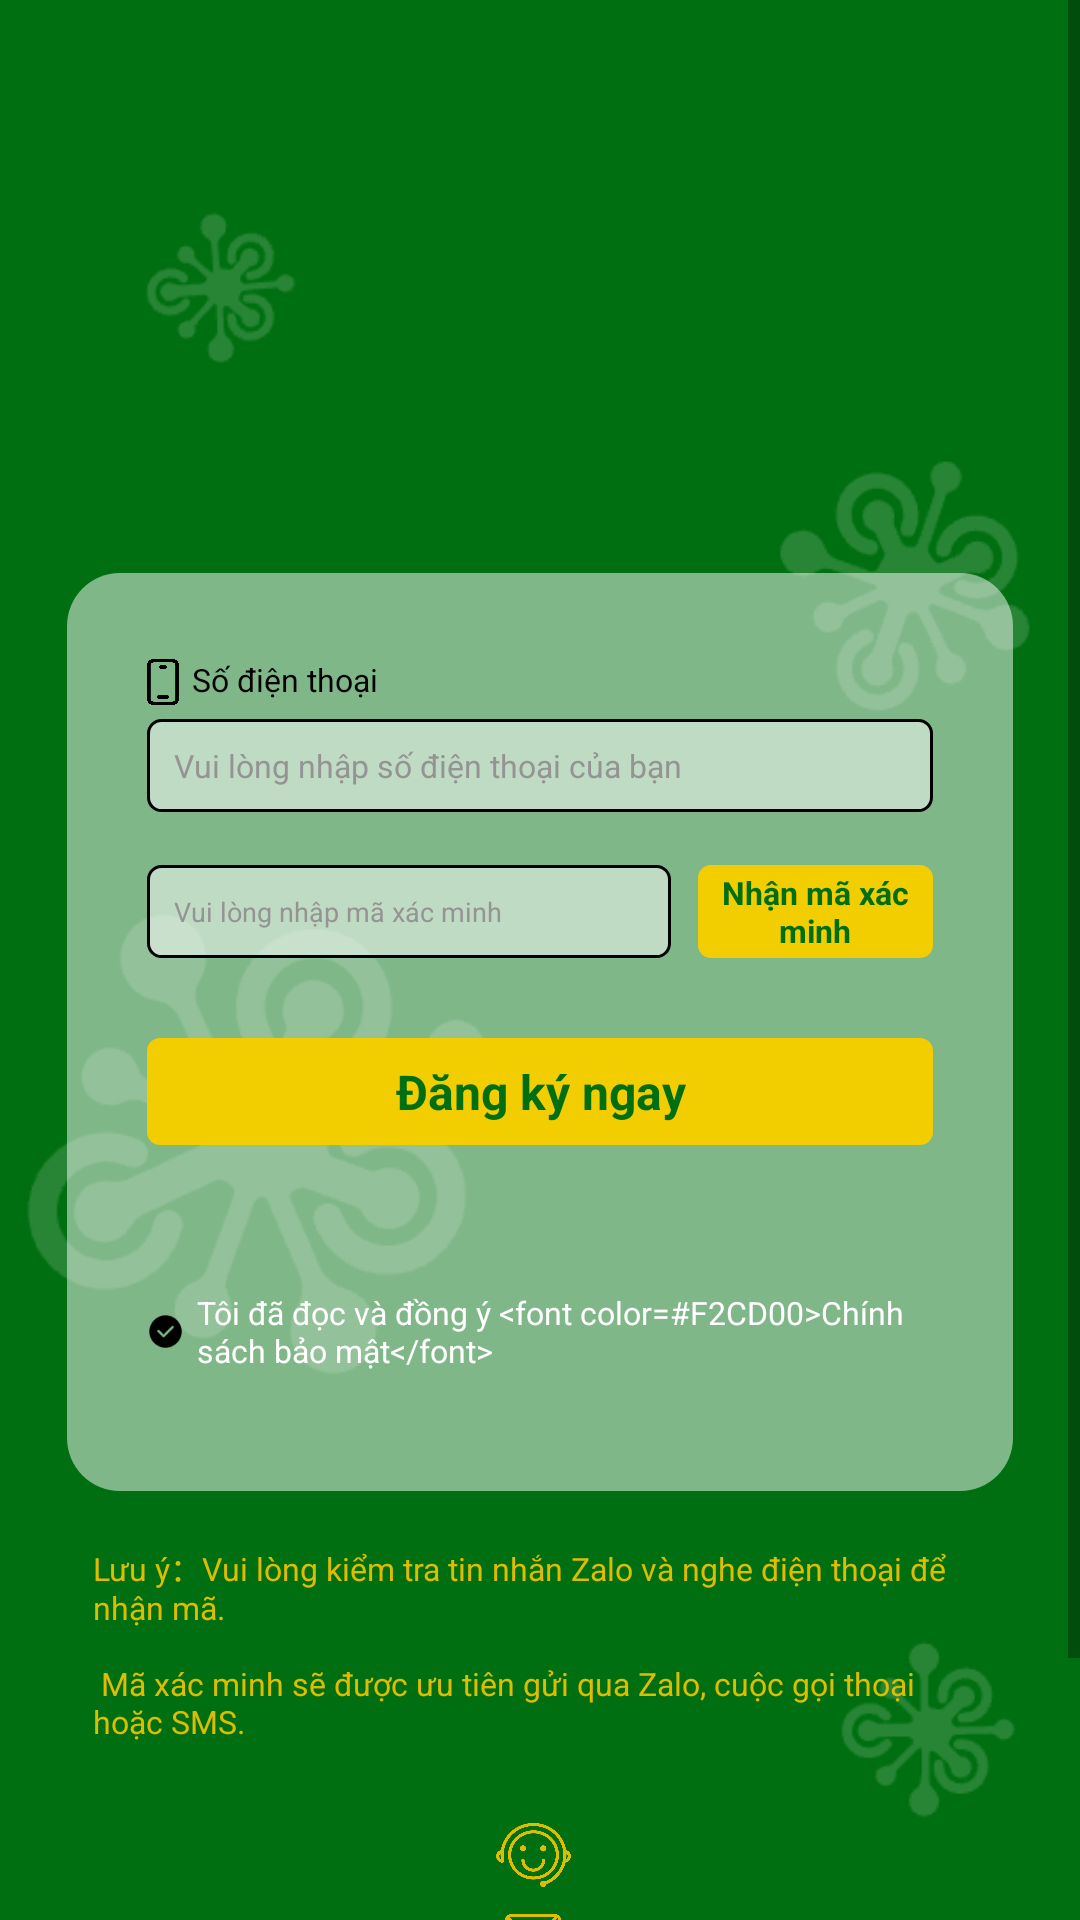

Icon click points for this 1080px×1920px phone screenshot, format (x,y):
phone: (163,682)
select login: (165,1331)
